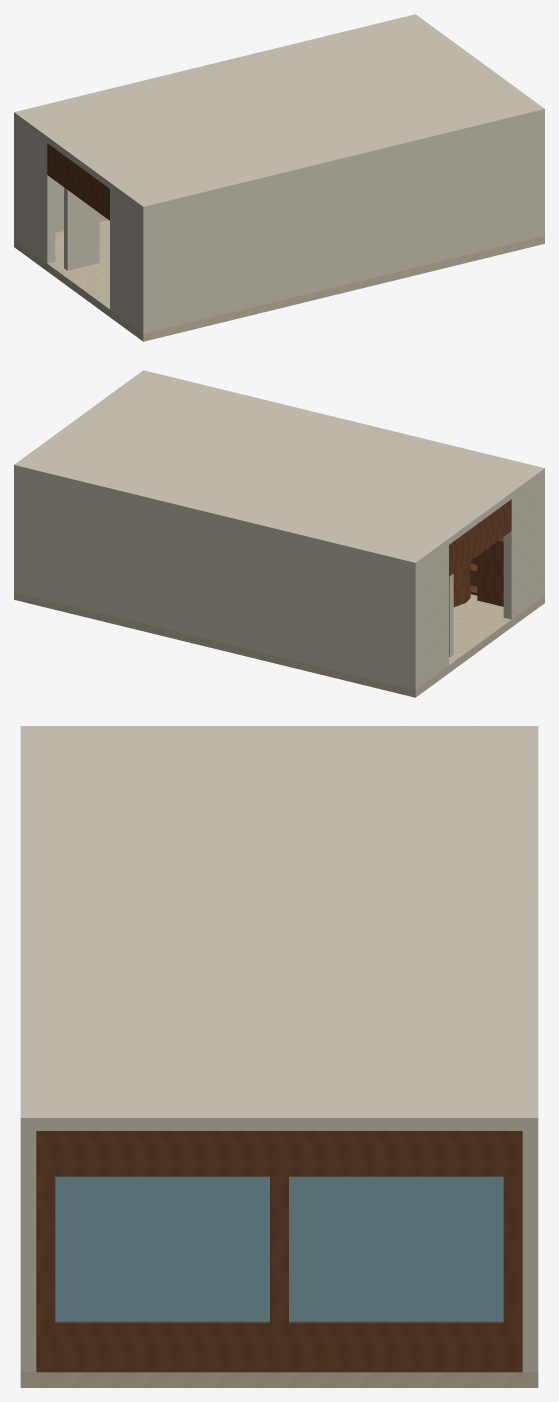
File: TIDAL_QUIET_DOUBLE_D15_556_r001.glb
3 views of the same model, one above another, from view 1: azimuth 30°, elevation 25°; view 2: azimuth 150°, elevation 25°; view 3: azimuth 270°, elevation 25° (orthographic). The views are drawn at different scales.
Visible parts, largest first — view 1: TQD556_Ceiling, TQD556_SouthWall, TQD556_Floor, TQD556_FrontWall_0, TQD556_FrontWall_1, TQD556_WashSouth_1, TQD556_EntryLintel, TQD556_NorthWall; view 2: TQD556_Ceiling, TQD556_NorthWall, TQD556_Floor, TQD556_FrontWall_1, TQD556_FrontWall_0, TQD556_EntryLintel, TQD556_ServiceSide_-296.32, TQD556_PrivacyScreen, TQD556_SouthWall, TQD556_WashSouth_1; view 3: TQD556_Ceiling, TQD556_CourtGlass_0, TQD556_CourtGlass_1, TQD556_WestSill, TQD556_WestHeader, TQD556_Floor, TQD556_NorthWall, TQD556_SouthWall, TQD556_WestPier_0, TQD556_WestPier_2, TQD556_WestPier_1.
Part boxes in pixels (<box>): TQD556_Ceiling: <box>14,14,544,213</box>; TQD556_SouthWall: <box>139,115,544,333</box>; TQD556_Floor: <box>14,220,544,341</box>; TQD556_FrontWall_0: <box>18,122,55,263</box>; TQD556_FrontWall_1: <box>110,189,139,330</box>; TQD556_WashSouth_1: <box>64,187,99,270</box>; TQD556_EntryLintel: <box>47,143,109,220</box>; TQD556_NorthWall: <box>14,119,108,241</box>; TQD556_Ceiling: <box>14,370,544,569</box>; TQD556_NorthWall: <box>14,471,419,689</box>; TQD556_Floor: <box>14,592,544,697</box>; TQD556_FrontWall_1: <box>503,478,540,619</box>; TQD556_FrontWall_0: <box>419,545,448,686</box>; TQD556_EntryLintel: <box>449,499,511,576</box>; TQD556_ServiceSide_-296.32: <box>477,540,503,605</box>; TQD556_PrivacyScreen: <box>453,561,470,607</box>; TQD556_SouthWall: <box>541,475,544,597</box>; TQD556_WashSouth_1: <box>449,574,453,656</box>; TQD556_Ceiling: <box>20,726,538,1130</box>; TQD556_CourtGlass_0: <box>289,1176,503,1321</box>; TQD556_CourtGlass_1: <box>55,1176,269,1321</box>; TQD556_WestSill: <box>36,1321,522,1372</box>; TQD556_WestHeader: <box>36,1131,522,1176</box>; TQD556_Floor: <box>20,1372,538,1387</box>; TQD556_NorthWall: <box>522,1131,538,1372</box>; TQD556_SouthWall: <box>20,1131,36,1372</box>; TQD556_WestPier_0: <box>503,1176,522,1323</box>; TQD556_WestPier_2: <box>36,1176,55,1323</box>; TQD556_WestPier_1: <box>270,1176,288,1323</box>.
Bounding box in the file's own units: 12.9 × 4.14 × 7.2.
7 materials, 5 textured.
